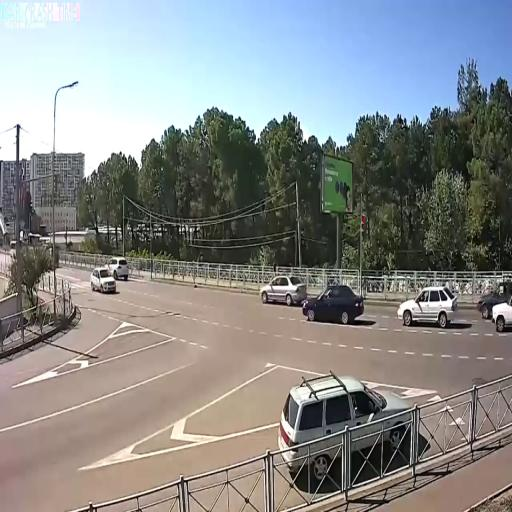小汽车: (278, 378, 410, 477), (302, 280, 367, 327), (398, 286, 456, 330), (260, 272, 307, 306), (478, 282, 512, 318), (89, 264, 118, 297), (491, 297, 512, 333), (108, 255, 130, 282)
